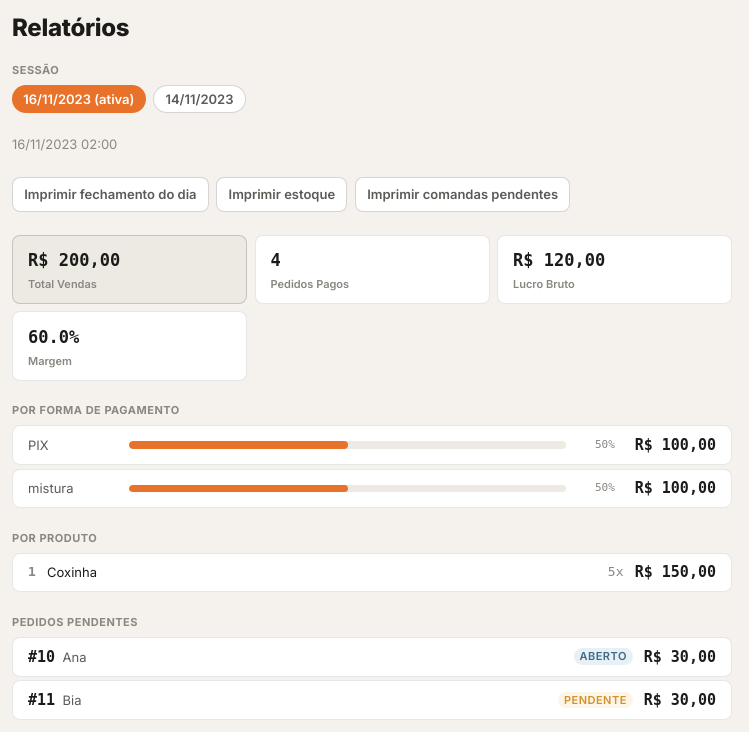
Test case: ReportsPage › toasts when loading the stock report fails
Click the button "Imprimir estoque" at [282, 194], box [216,176,347,212]
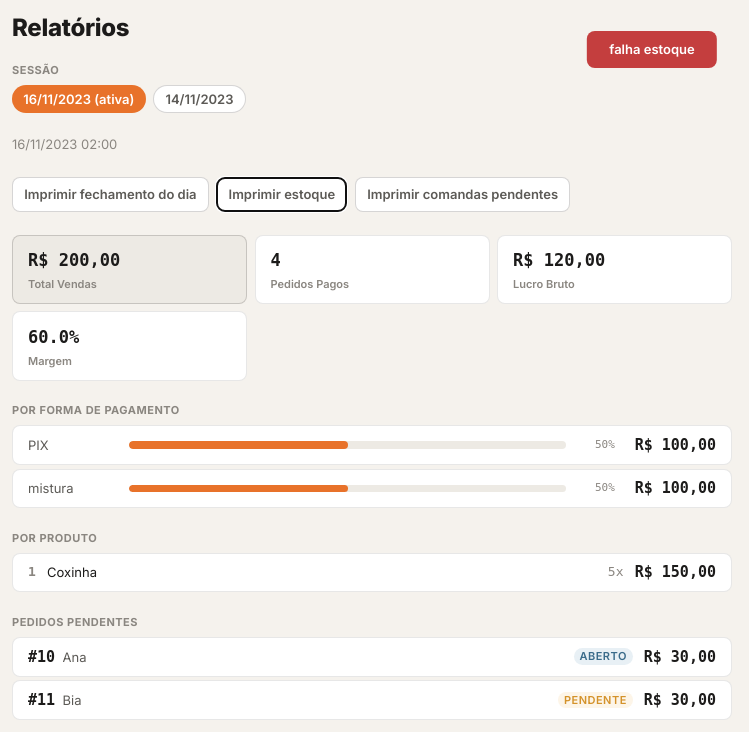
Expected: the message reads "falha estoque", [609,41,695,57]
